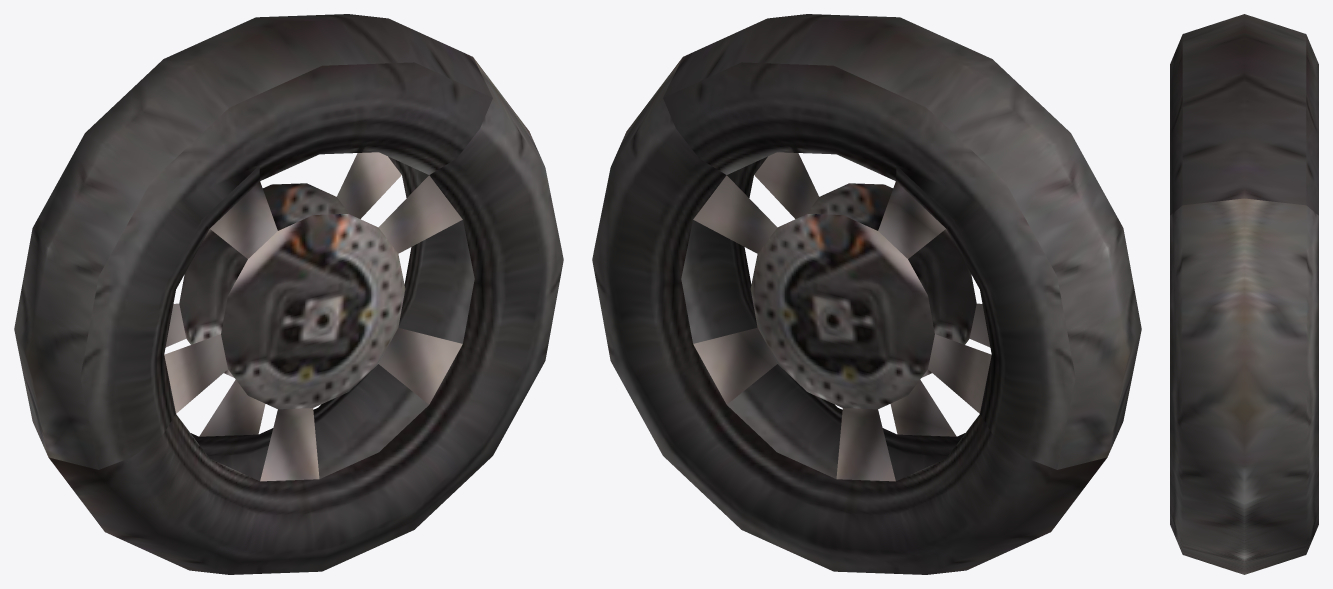
Rendered from cbr1000rr_wheels.fbx.
The picture shows the model from 3 angles, left to right: view 1: azimuth 30°, elevation 25°; view 2: azimuth 150°, elevation 25°; view 3: azimuth 270°, elevation 25°; orthographic projection. The views are drawn at different scales.
Visible parts, largest first — view 1: Cube.004; view 2: Cube.004; view 3: Cube.004.
Part boxes in pixels (left/top/right/bottom): Cube.004: left=14, top=14, right=563, bottom=574; Cube.004: left=592, top=14, right=1141, bottom=574; Cube.004: left=1170, top=14, right=1318, bottom=574.
Size of the model in its own units: 200 by 200 by 53.01.
1 material, 1 textured.
